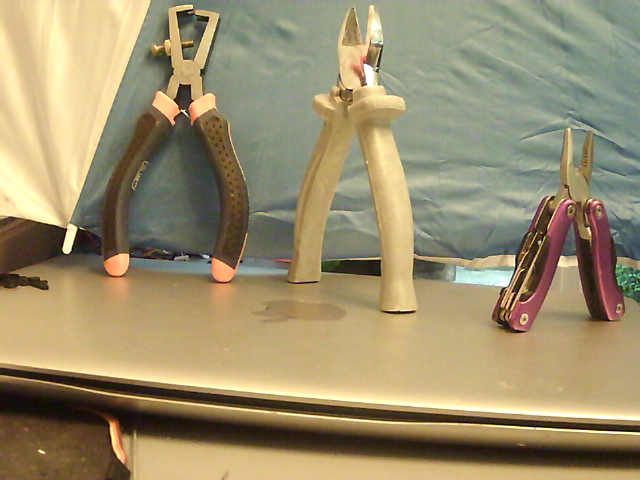pliers: (284, 3, 421, 316), (488, 123, 627, 335)
